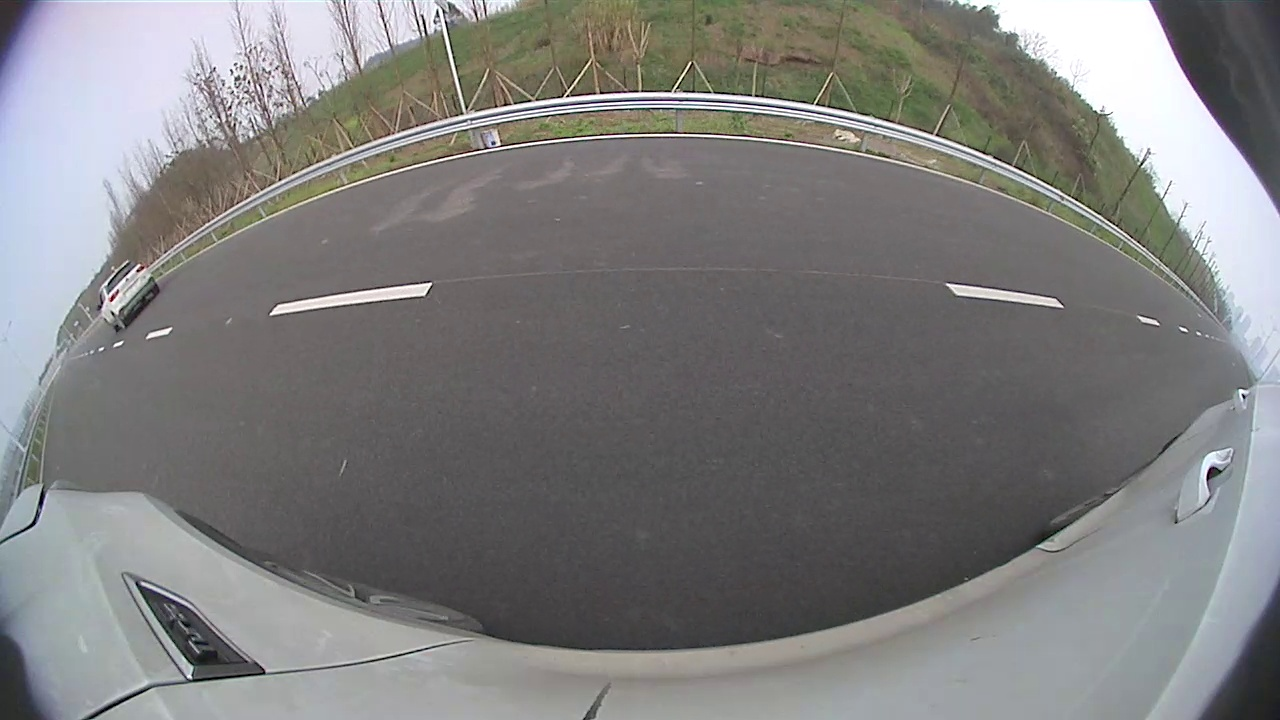car: (96, 259, 160, 332)
rear: (112, 313, 127, 330)
